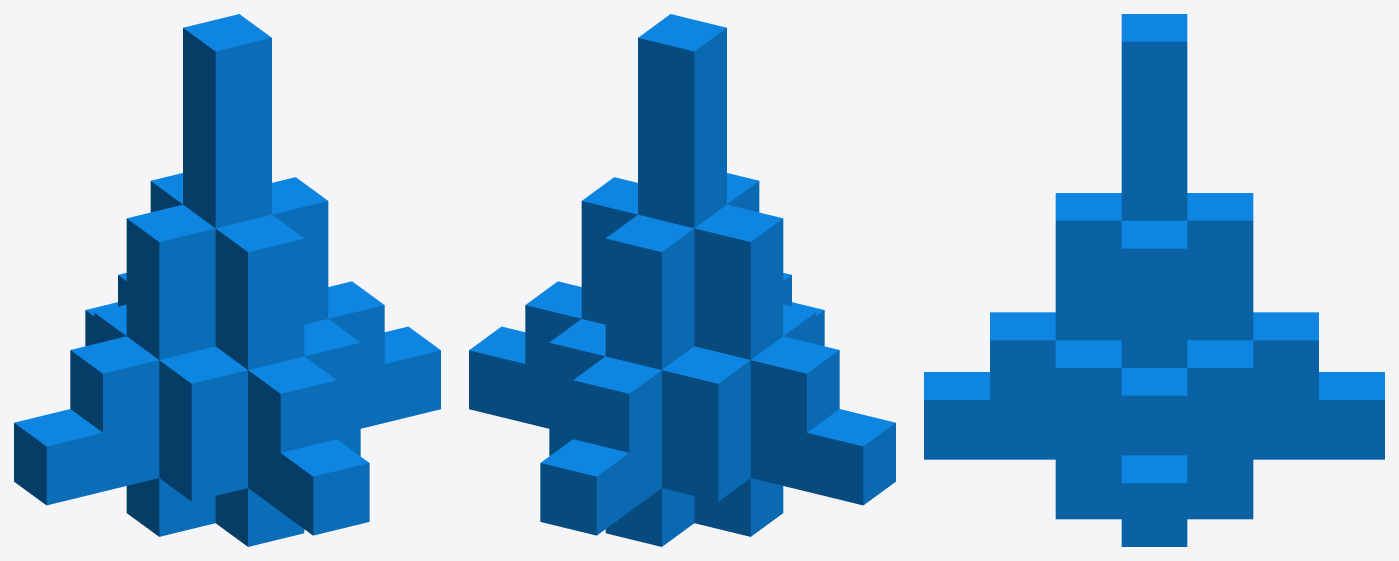
Rendered from VoxelEffects_GunFire_02.FBX.
3 renders of one model, left to right at view 1: azimuth 30°, elevation 25°; view 2: azimuth 150°, elevation 25°; view 3: azimuth 270°, elevation 25°, orthographic.
Visible parts, largest first — view 1: VoxelEffects_GunFire_02; view 2: VoxelEffects_GunFire_02; view 3: VoxelEffects_GunFire_02.
Boxes of the visible parts, bbox=[...] form: VoxelEffects_GunFire_02: bbox=[14, 14, 440, 546]; VoxelEffects_GunFire_02: bbox=[469, 14, 895, 546]; VoxelEffects_GunFire_02: bbox=[924, 14, 1384, 546].
Size of the model in its own units: 70 by 80 by 70.
